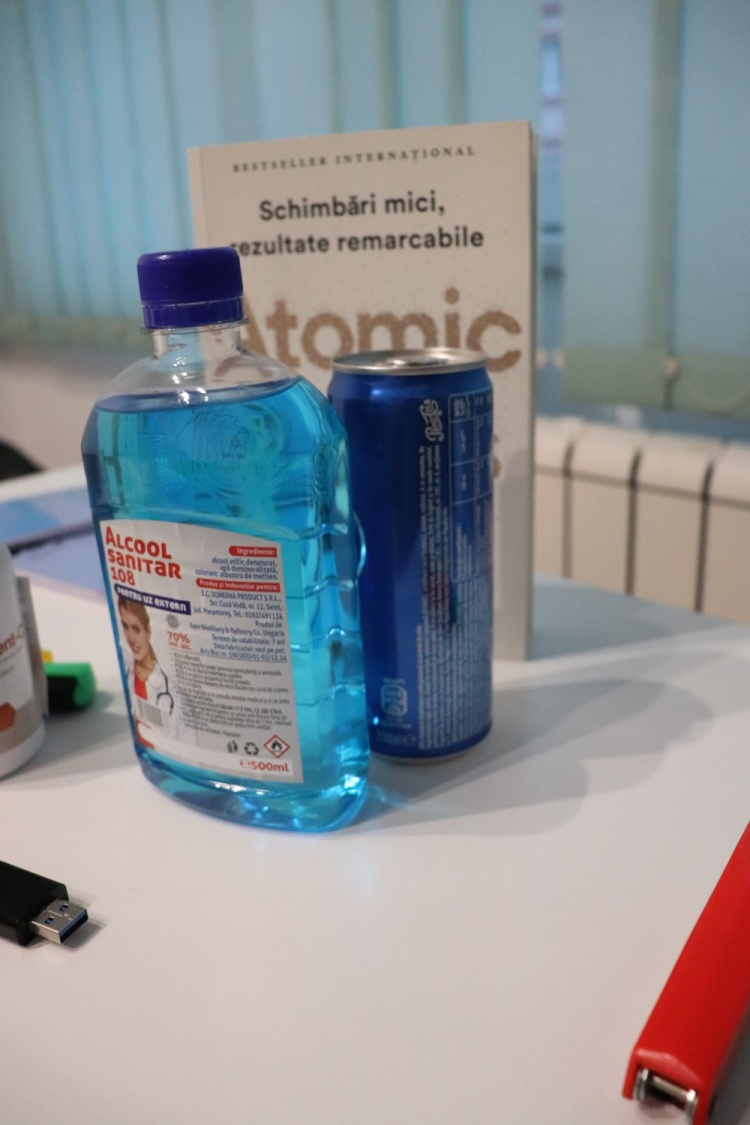pepsi: (323, 341, 500, 772)
